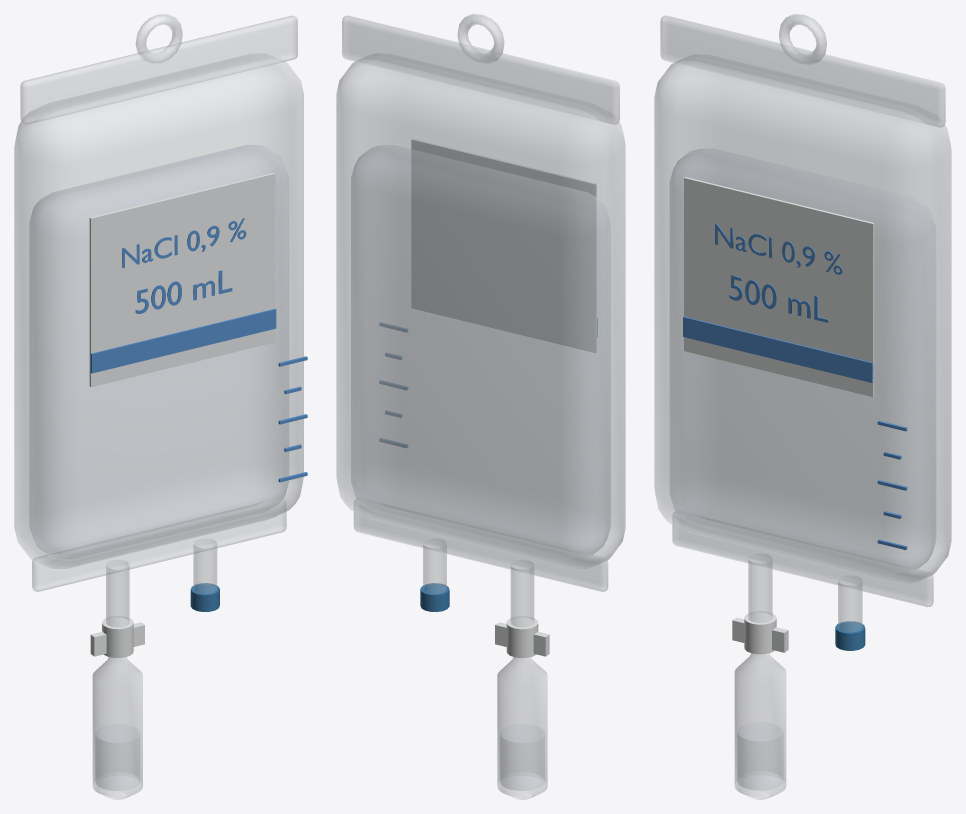
File: poche.glb
3 views of the same model, side by side, from view 1: azimuth 30°, elevation 25°; view 2: azimuth 150°, elevation 25°; view 3: azimuth 330°, elevation 25° (orthographic). The views are drawn at different scales.
Visible parts, largest first — view 1: poche; view 2: poche; view 3: poche.
Boxes of the visible parts, box(x1,y1,x2,y2) form: poche: box(14, 14, 307, 799); poche: box(336, 14, 625, 799); poche: box(654, 14, 951, 799).
Bounding box in the file's own units: 0.12 × 0.3202 × 0.0357.
